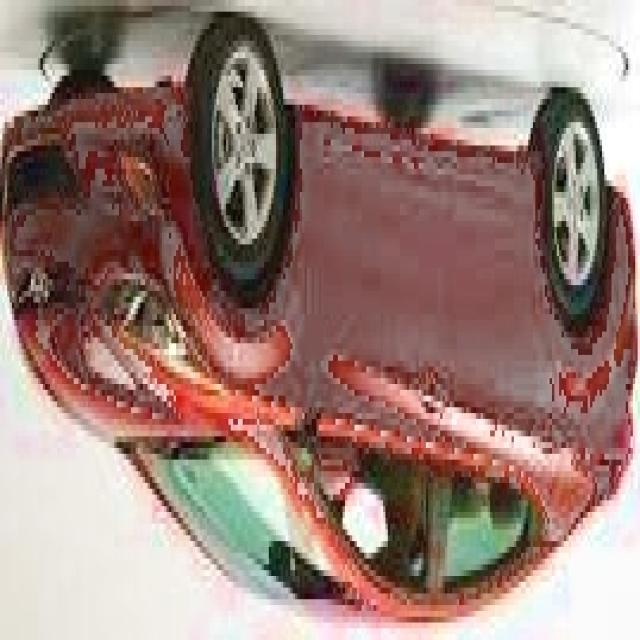maroon: (2, 84, 640, 632)
